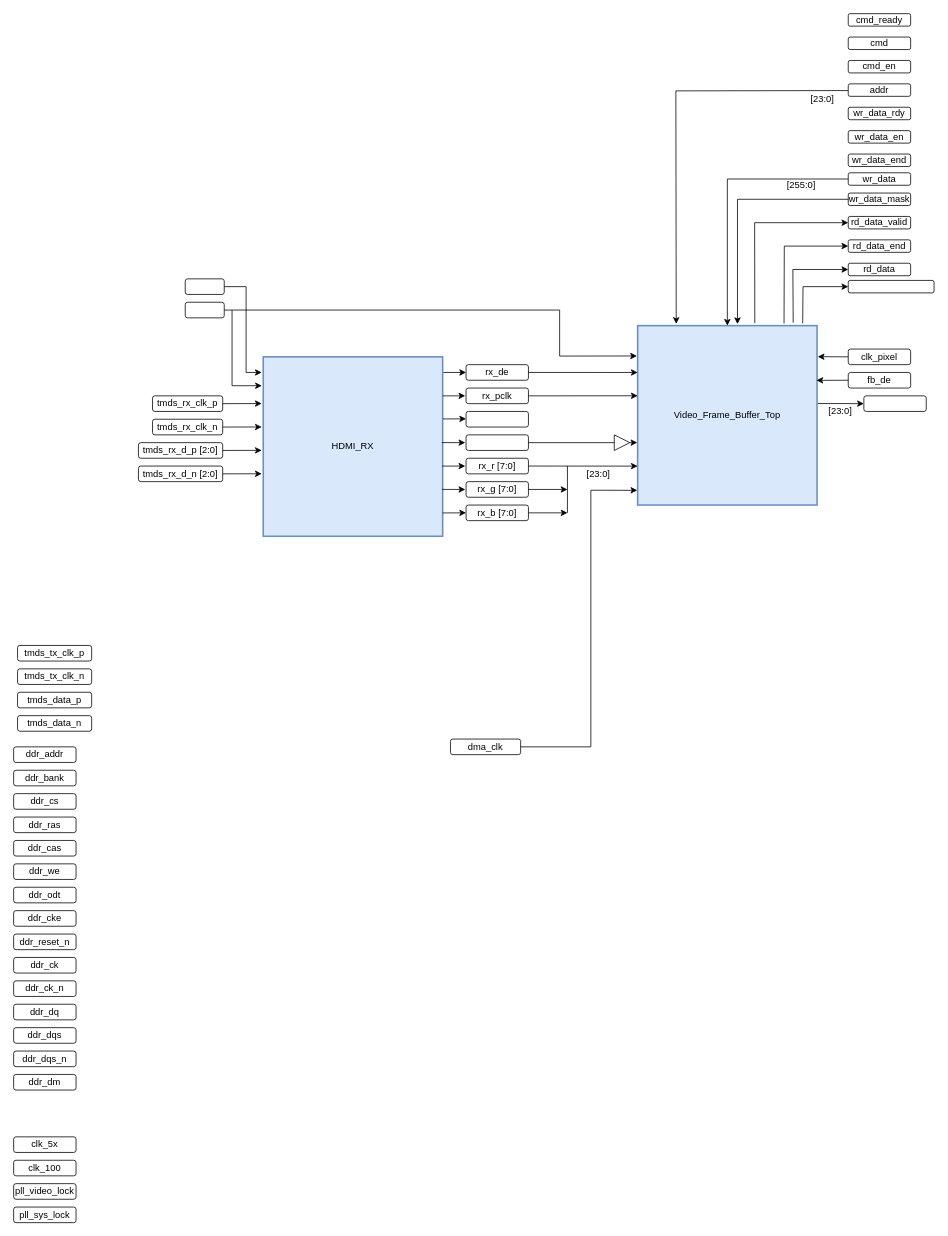
Image size: 948x1236. Some labels were removed from this diagram. Here are the shapes that lost their labels. From the top down, the centre of each, then its label:
At point 204,286: "clk".
At point 890,286: "init_calib_complete".
At point 204,309: "rst_n".
At point 496,419: "rx_hsync".
At point 894,403: "read_data".
At point 496,442: "rx_vsync".
